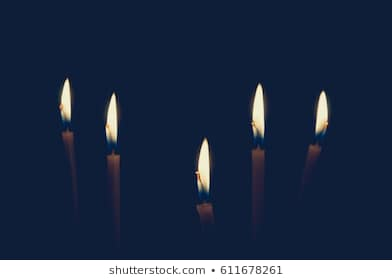Fire: (193, 139, 218, 194), (250, 84, 270, 142), (313, 91, 333, 140), (104, 93, 122, 145), (58, 77, 72, 127)
